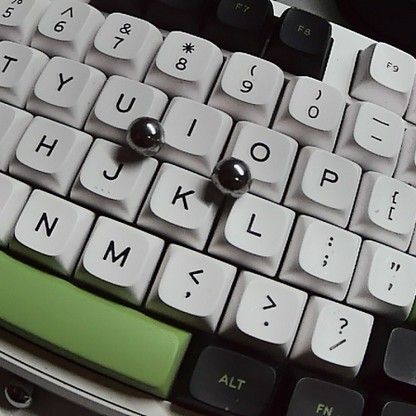ironball: (210, 154, 256, 200), (122, 114, 164, 159)
